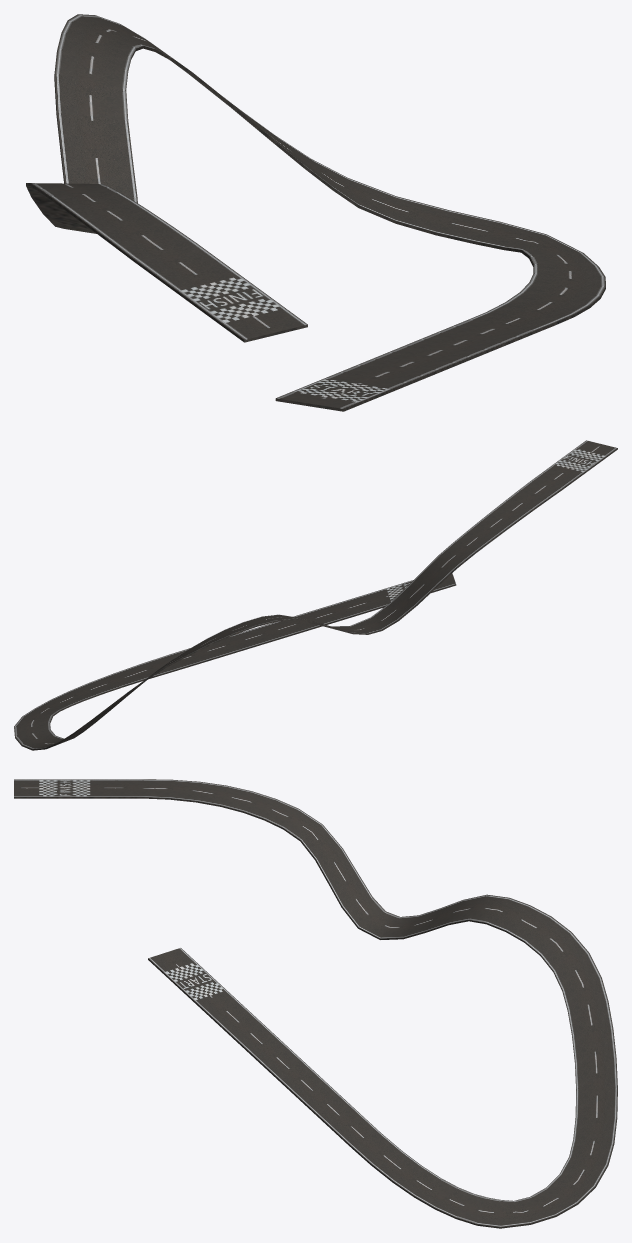
The model's file is TrackLevel010.FBX.
The picture shows the model from 3 angles, top to bottom: view 1: azimuth 30°, elevation 25°; view 2: azimuth 150°, elevation 25°; view 3: azimuth 270°, elevation 25°; orthographic projection. The views are drawn at different scales.
Visible parts, largest first — view 1: Track010; view 2: Track010; view 3: Track010.
Boxes of the visible parts, box(x1,y1,x2,y2) form: Track010: box(26, 14, 605, 411); Track010: box(14, 440, 617, 750); Track010: box(14, 779, 617, 1228).
Size of the model in its own units: 2401 by 1242 by 2876.
